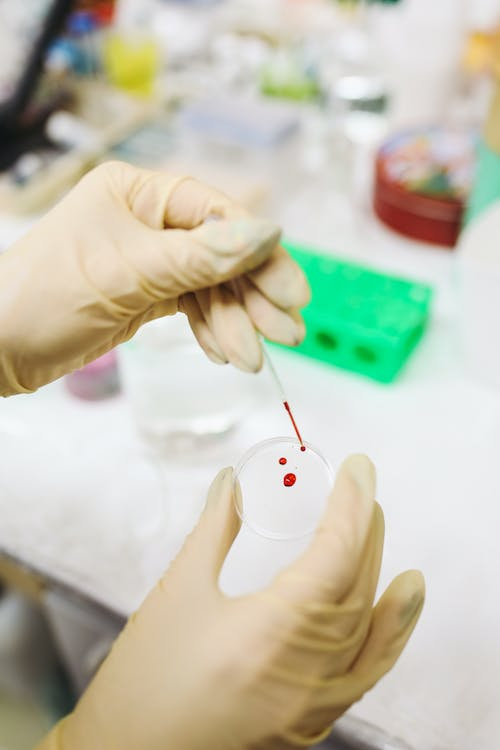blood: (279, 397, 307, 453), (279, 454, 305, 491)
